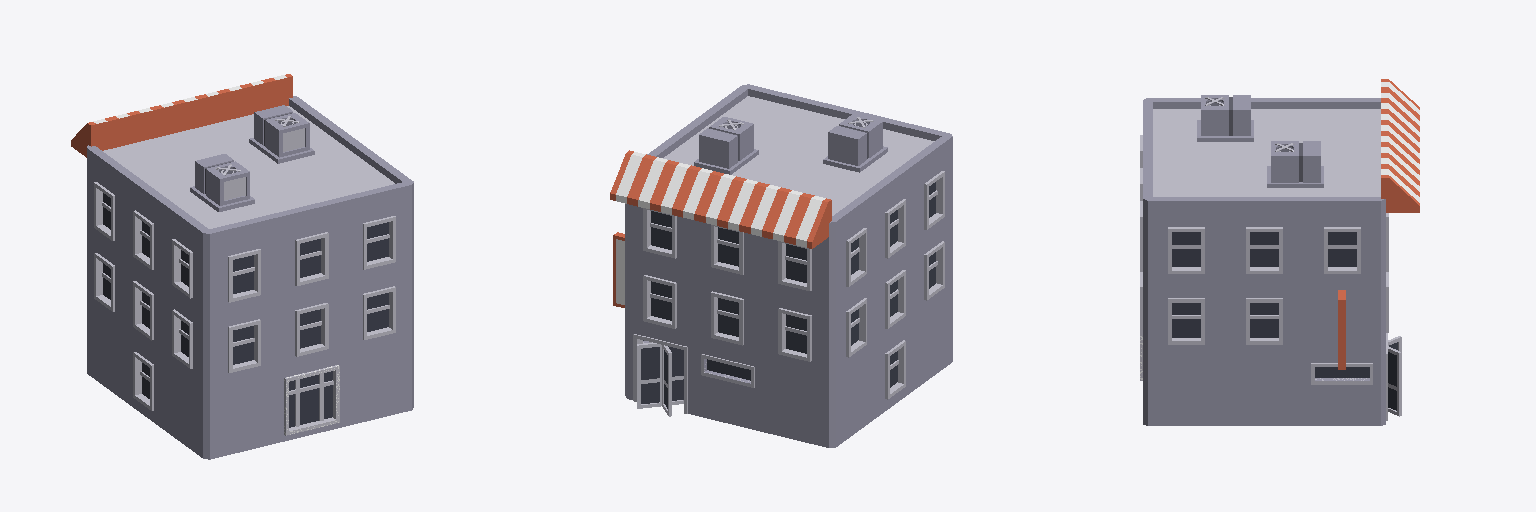
Rendered from Tenement.obj.
3 renders of one model, left to right at view 1: azimuth 30°, elevation 25°; view 2: azimuth 150°, elevation 25°; view 3: azimuth 270°, elevation 25°, orthographic.
Bounding box in the file's own units: 3.6 × 3.56 × 3.6.